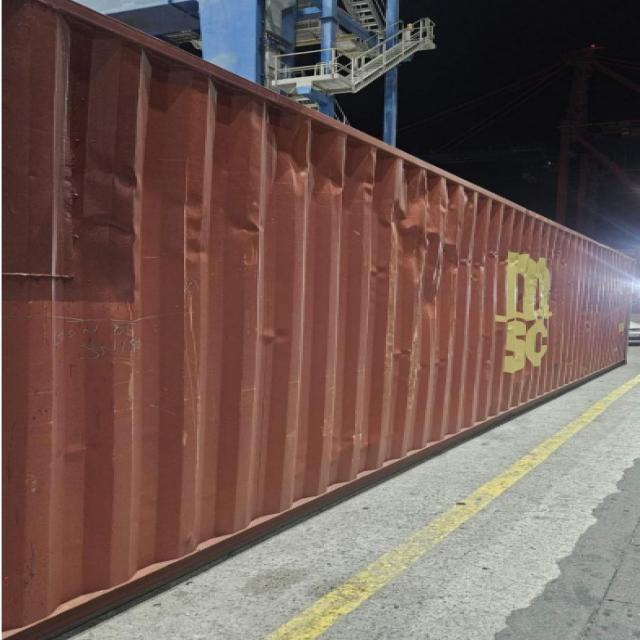dent: (53, 67, 529, 295)
